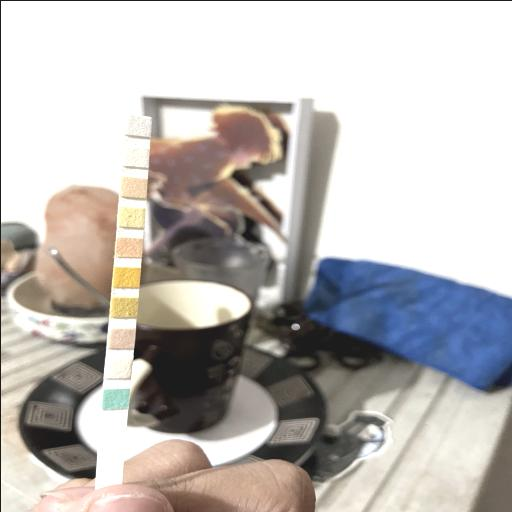Bilirubin: (107, 358, 129, 376)
Blood: (114, 268, 137, 286)
Glucose: (104, 388, 126, 408)
Ketone: (110, 327, 132, 347)
Leukocytes: (126, 116, 148, 134)
Nitrite: (124, 148, 146, 164)
Protein: (118, 207, 142, 225)
SpGravity: (112, 296, 134, 316)
Urobilinogen: (120, 178, 145, 195)
pH: (116, 238, 140, 255)
strip: (94, 115, 150, 482)
